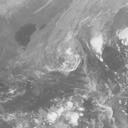cyclone: (49, 35, 82, 73)
